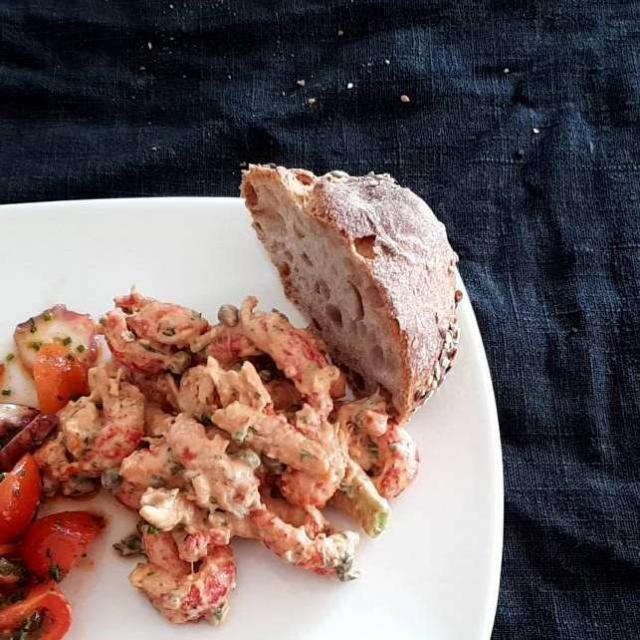bread: (251, 165, 456, 407)
